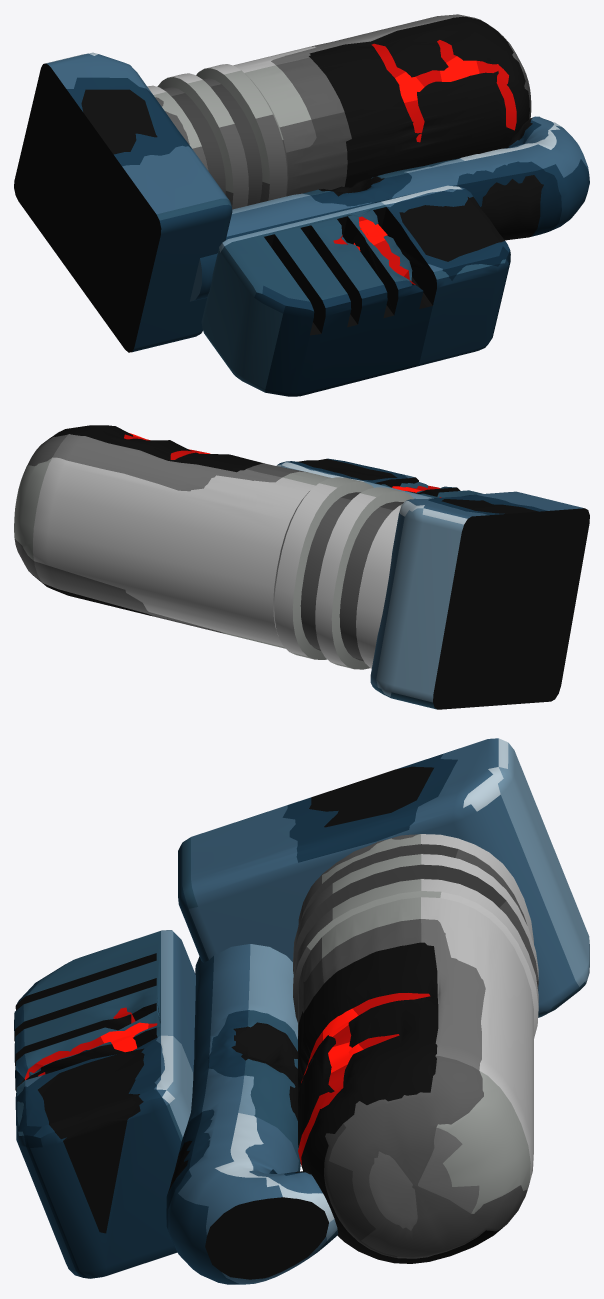
Rendered from deli_cannon_l_dmg_breech.glb.
3 views of the same model, one above another, from view 1: azimuth 30°, elevation 25°; view 2: azimuth 150°, elevation 25°; view 3: azimuth 270°, elevation 25° (orthographic). The views are drawn at different scales.
Visible parts, largest first — view 1: fin_block.001, breech.001, rear_block.001, handle.001, cracks.001; view 2: breech.001, rear_block.001, fin_block.001, cracks.001; view 3: breech.001, fin_block.001, rear_block.001, handle.001, cracks.001.
Part boxes in pixels (left/top/right/bottom): fin_block.001: left=201, top=185, right=510, bottom=396; breech.001: left=147, top=14, right=531, bottom=209; rear_block.001: left=14, top=52, right=232, bottom=352; handle.001: left=190, top=116, right=589, bottom=301; cracks.001: left=333, top=40, right=516, bottom=284; breech.001: left=14, top=425, right=414, bottom=669; rear_block.001: left=370, top=491, right=589, bottom=709; fin_block.001: left=276, top=458, right=482, bottom=498; cracks.001: left=124, top=433, right=441, bottom=497; breech.001: left=293, top=834, right=538, bottom=1263; fin_block.001: left=14, top=930, right=195, bottom=1278; rear_block.001: left=178, top=738, right=589, bottom=1017; handle.001: left=166, top=944, right=338, bottom=1284; cracks.001: left=24, top=993, right=430, bottom=1165.
Bounding box in the file's own units: 24 × 12.88 × 19.51.
